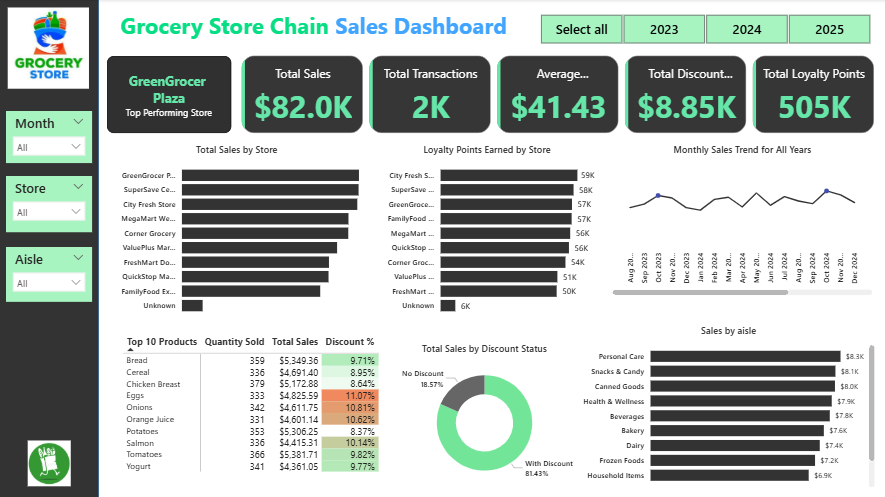

The page's visual inventory and layout, read from the dashboard file:
{"tool":"powerbi","page":{"name":"Grocery Store Chain Sales Dashboard","canvas":[1280,720],"ordinal":0},"visuals":[{"type":"cardVisual","fields":{"Data":["Measure.Total Sales","Measure.Total Transactions","Measure.Average Transaction Value","Measure.Total Discount Given","Measure.Total Loyalty Points"]},"box":[345.6,76.3,921.6,122.4],"z":0},{"type":"lineChart","fields":{"Y":["Measure.Total Sales"],"Category":["Sales.MonthYear"]},"box":[874.1,217.4,383,234.7],"z":1000},{"type":"clusteredBarChart","title":"Total Sales by Store","fields":{"Category":["Sales.store_name"],"Y":["Measure.Total Sales"]},"box":[157,217.4,375.8,250.6],"z":2000},{"type":"clusteredBarChart","title":" Sales by aisle","fields":{"Category":["Sales.aisle"],"Y":["Measure.Total Sales"]},"box":[836.6,468,430.6,240.5],"z":3000},{"type":"pivotTable","fields":{"Rows":["Sales.product_name"],"Values":["Measure.Total Quantity Sold","Measure.Total Sales","Measure.Discount Rate %"]},"box":[171.4,493.9,383,226.1],"z":4000},{"type":"clusteredBarChart","title":"Loyalty Points Earned by Store","fields":{"Category":["Sales.store_name"],"Y":["Measure.Total Loyalty Points"]},"box":[538.6,217.4,321.1,259.2],"z":5000},{"type":"shape","box":[0,0,145.4,720],"z":6000},{"type":"donutChart","title":"Total Sales by Discount Status","fields":{"Category":["Sales.Discount_Flag"],"Y":["Measure.Total Sales"]},"box":[564.5,493.9,272.2,216],"z":7000},{"type":"image","box":[0,7.2,145.4,126.7],"z":8000},{"type":"slicer","fields":{"Values":["Sales.Month Name"]},"box":[11.5,161.3,123.8,74.9],"z":9000},{"type":"slicer","fields":{"Values":["Sales.store_name"]},"box":[11.5,254.9,123.8,80.6],"z":10000},{"type":"slicer","fields":{"Values":["Sales.aisle"]},"box":[11.5,357.1,123.8,79.2],"z":11000},{"type":"textbox","box":[171.4,10.1,586.1,60.5],"z":12000},{"type":"card","fields":{"Values":["Measure.Top Performing Store"]},"box":[157,82.1,178.6,110.9],"z":14000},{"type":"image","box":[5.8,630.7,135.4,76.3],"z":15000},{"type":"slicer","fields":{"Values":["Sales.Year"]},"box":[756,15.8,524.2,54.7],"z":17001}]}

Visuals, with their boxes in screenshot pixels (x1, y1, x2, y2), scaled from the page's 1280x720 canvas onto the 885x497 screenshot:
cardVisual - Measure.Total Sales x Measure.Total Transactions: 239:53:876:137
lineChart - Measure.Total Sales x Sales.MonthYear: 604:150:869:312
"Total Sales by Store" clusteredBarChart: 109:150:368:323
" Sales by aisle" clusteredBarChart: 578:323:876:489
pivotTable - Sales.product_name x Measure.Total Quantity Sold: 119:341:383:496
"Loyalty Points Earned by Store" clusteredBarChart: 372:150:594:329
shape: 0:0:101:496
"Total Sales by Discount Status" donutChart: 390:341:578:490
image: 0:5:101:92
slicer - Sales.Month Name: 8:111:94:163
slicer - Sales.store_name: 8:176:94:232
slicer - Sales.aisle: 8:246:94:301
textbox: 119:7:524:49
card - Measure.Top Performing Store: 109:57:232:133
image: 4:435:98:488
slicer - Sales.Year: 523:11:884:49
